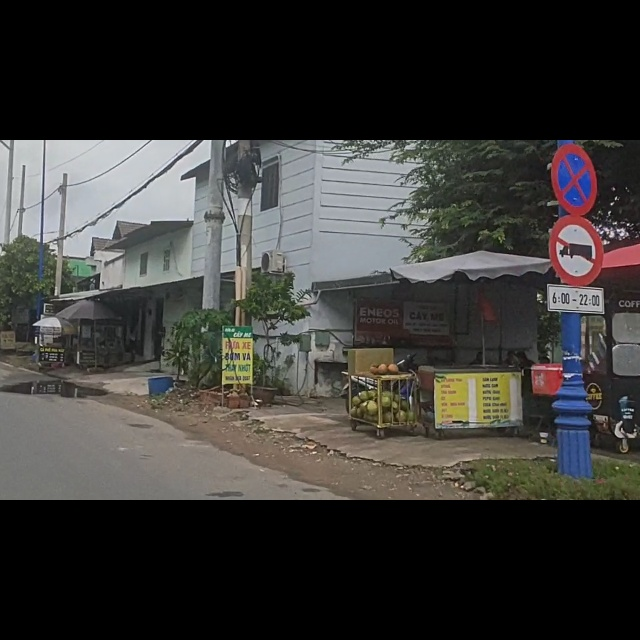bien_cam: (549, 133, 603, 261), (551, 7, 598, 134)
